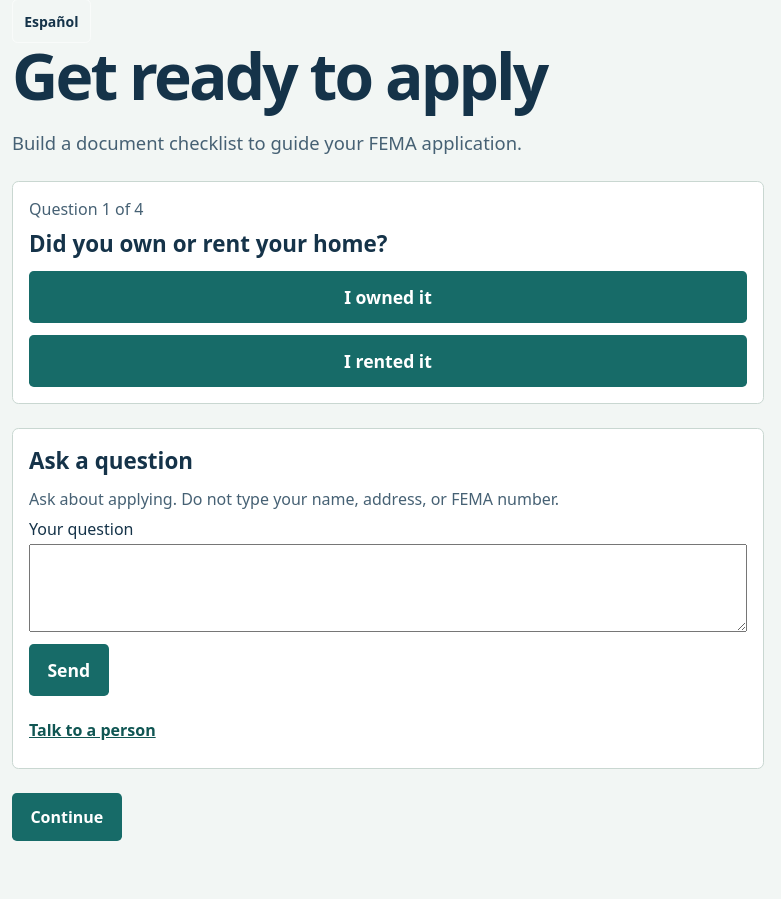
apply questions › asks one question at a time and can go back
Expected: the heading "Did you own or rent your home?" is shown, x1=29 y1=228 x2=388 y2=259
Click the button "I owned it": (388,297) x1=29 y1=271 x2=747 y2=323
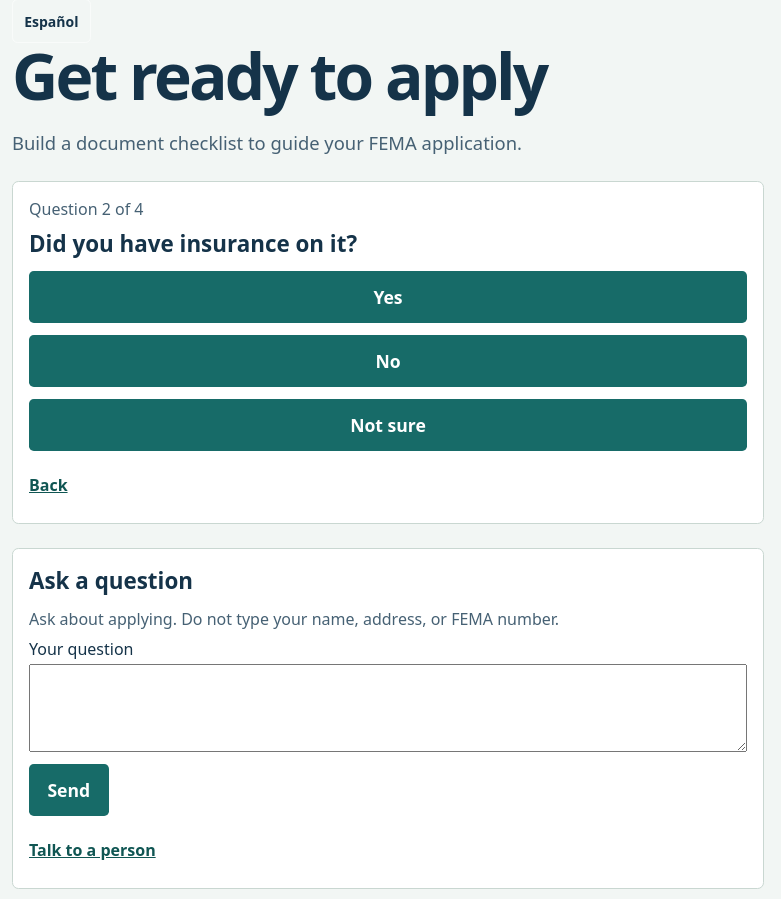
Result: the heading "Did you have insurance on it?" is shown at x1=29 y1=228 x2=357 y2=259
Click the button "Back": (48,485) x1=29 y1=463 x2=68 y2=507
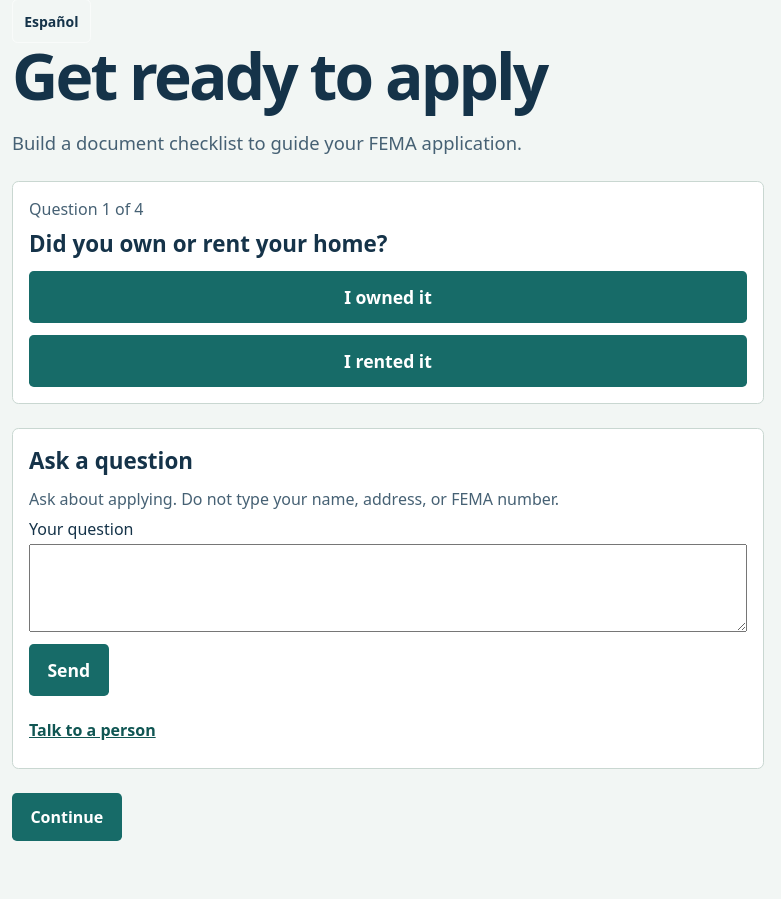
Result: the heading "Did you own or rent your home?" is shown at x1=29 y1=228 x2=388 y2=259
